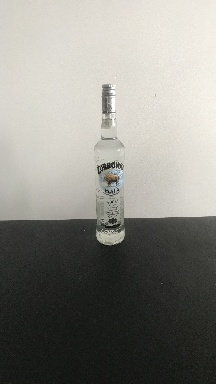butelka: (92, 80, 126, 247)
